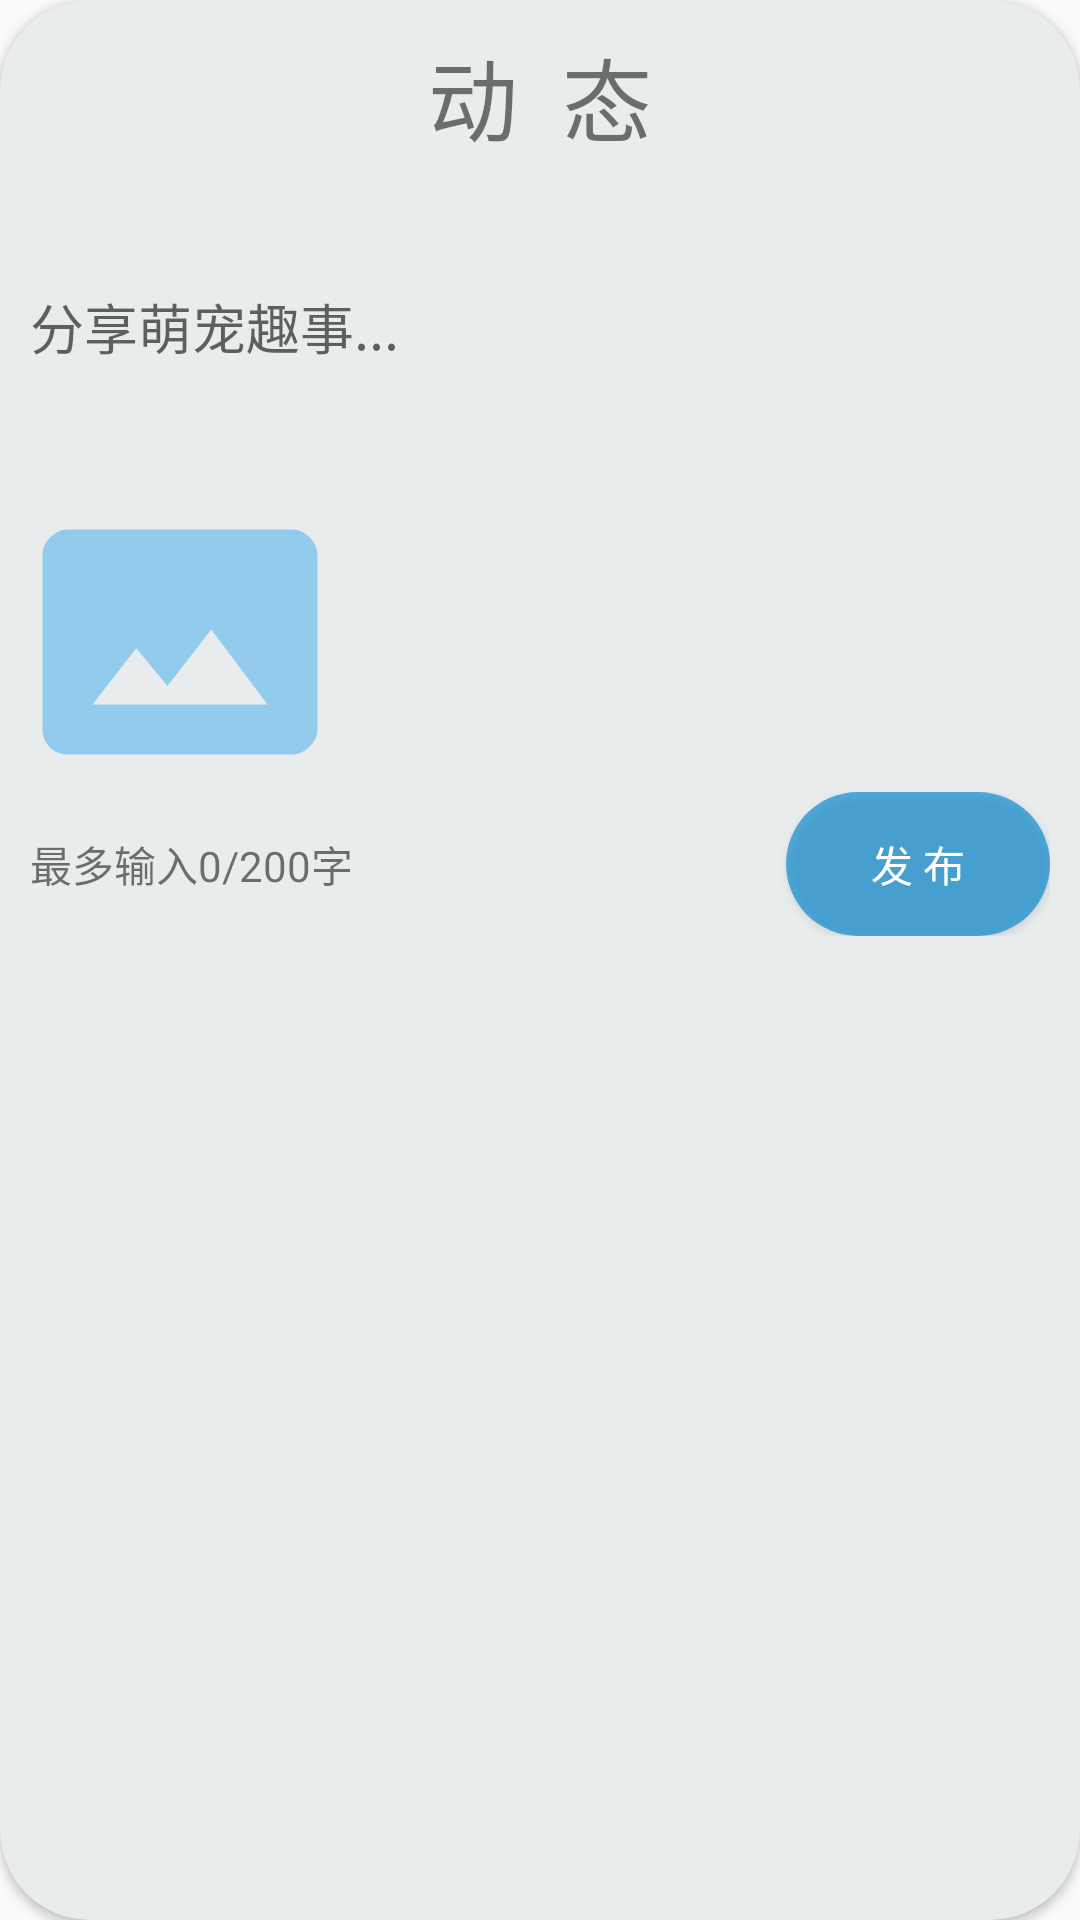

Icons on this 1080x1920 Android screen, each with its box as (x1, y1, x2, y2):
select photo: (42, 529, 318, 755)
